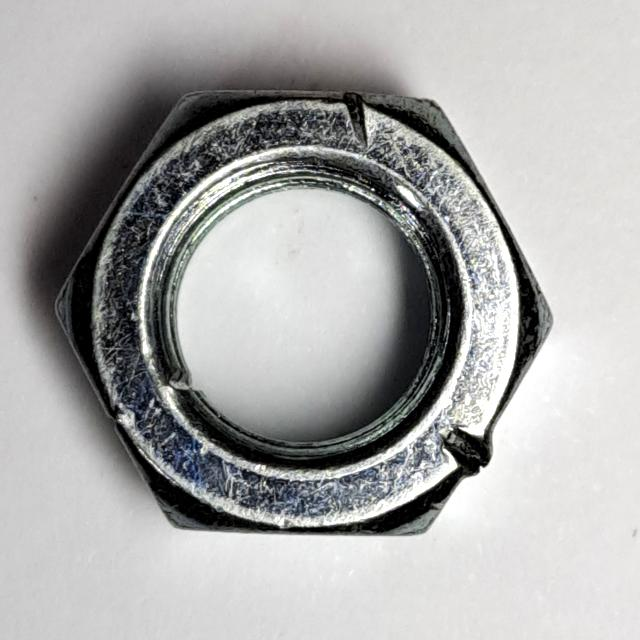Scratches: (35, 72, 563, 555)
